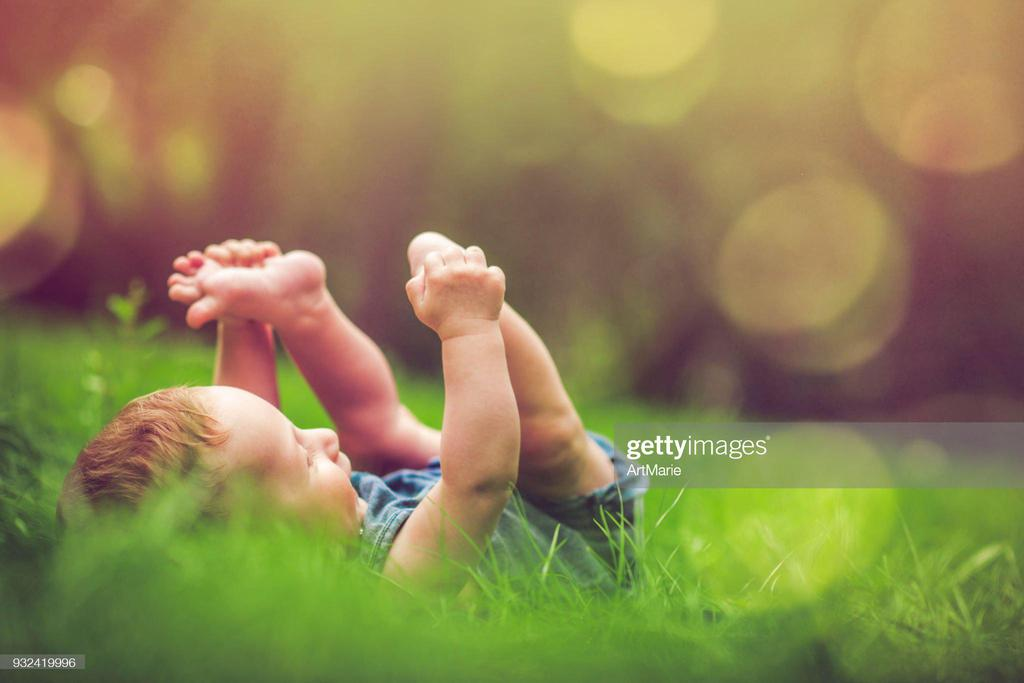child: (53, 219, 649, 623)
